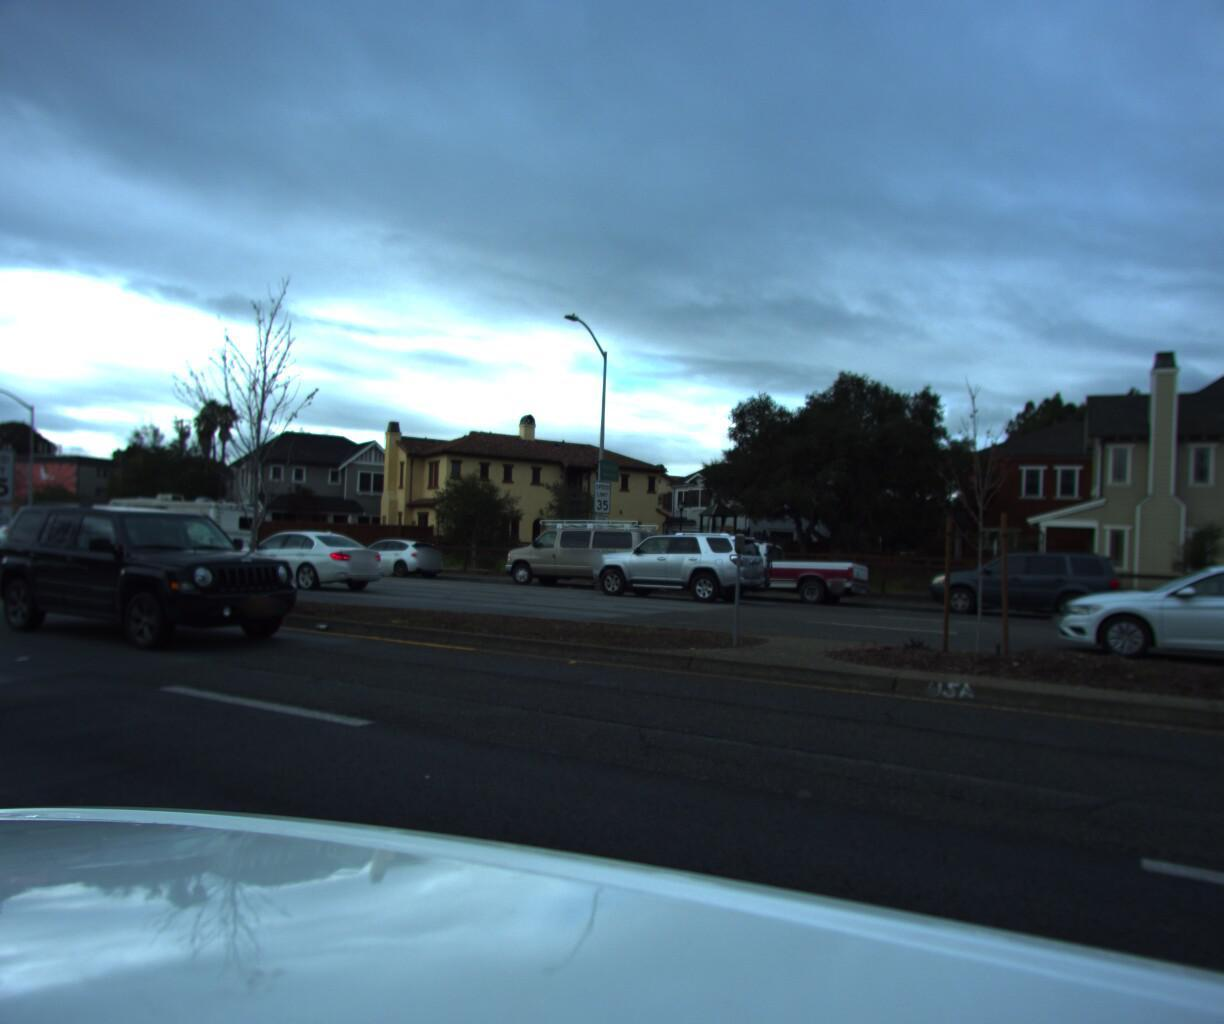car: (0, 488, 329, 656), (1068, 543, 1224, 686), (913, 536, 1130, 624), (673, 524, 876, 604), (587, 522, 775, 601), (213, 519, 401, 592), (495, 509, 672, 586), (329, 529, 452, 577), (0, 510, 46, 552)
other_vehicle: (88, 485, 262, 562)
